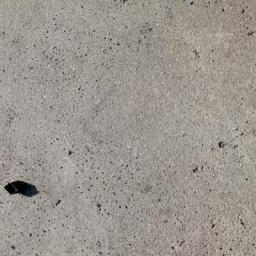FOD: (4, 180, 43, 201)
